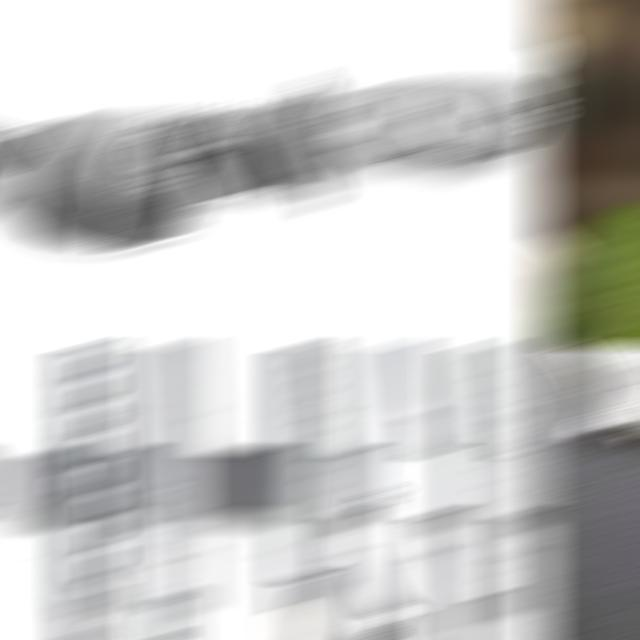Knife: (0, 79, 546, 252), (347, 347, 424, 638), (448, 347, 513, 638), (271, 347, 336, 638), (139, 347, 204, 638), (57, 347, 122, 638)
Knife_Handle: (535, 155, 640, 343)
